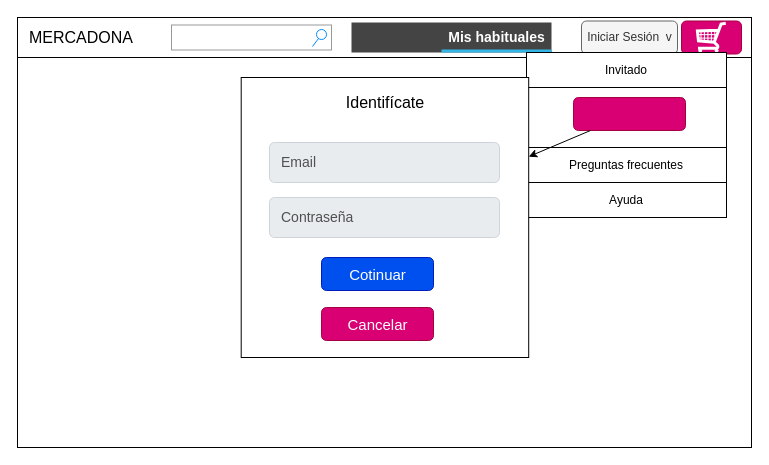
Image size: 769x465. Some labels were removed from this diagram. The shapes that lost their labels are listed below. From the top down, each one's centre as x and y in pixels, then its label:
pixel 251 37: Search
pixel 396 37: Categorías
pixel 629 113: Iniciar Sesión
